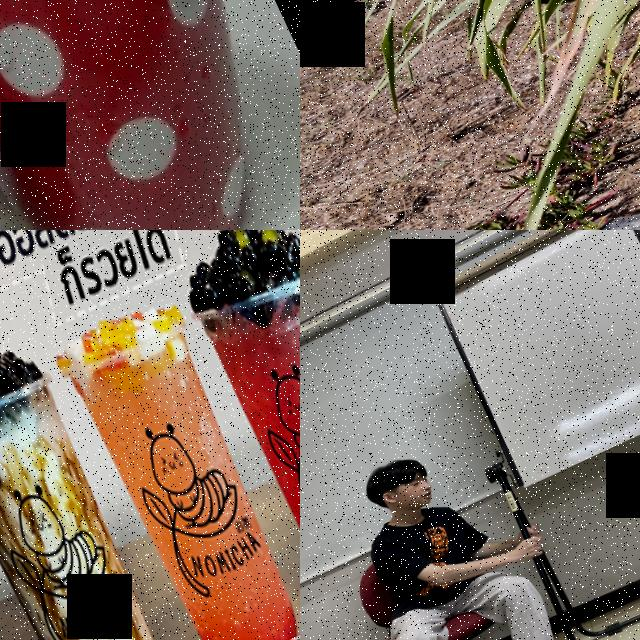can: (0, 0, 91, 230)
cup: (57, 311, 300, 640), (0, 364, 200, 640), (187, 253, 300, 629)
